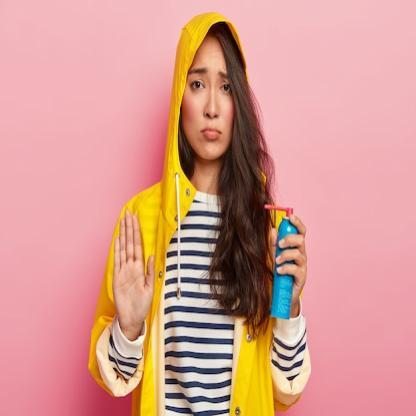stop: (111, 204, 157, 330)
